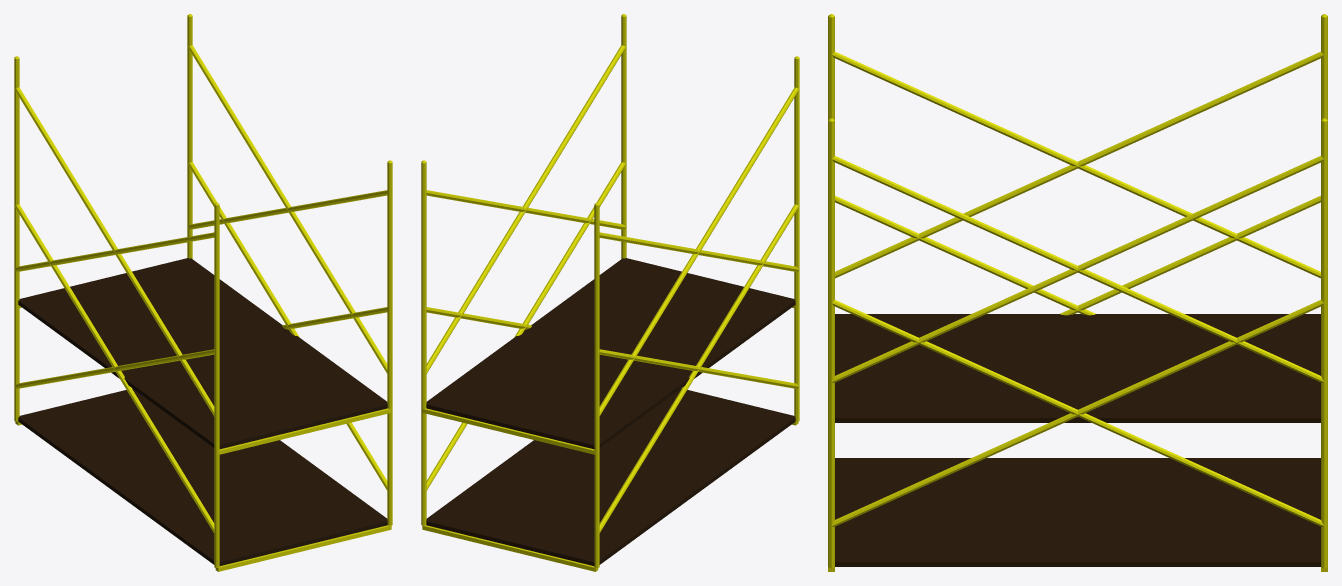
Rendered from Scaffolding.fbx.
3 renders of one model, left to right at view 1: azimuth 30°, elevation 25°; view 2: azimuth 150°, elevation 25°; view 3: azimuth 270°, elevation 25°, orthographic. The views are drawn at different scales.
Parts seen in each view (by area): view 1: ScaffoldingA, ScaffoldingB; view 2: ScaffoldingA, ScaffoldingB; view 3: ScaffoldingA, ScaffoldingB.
Part boxes in pixels (box(x1,y1,x2,y2)): ScaffoldingA: box(14, 14, 392, 567); ScaffoldingB: box(14, 133, 392, 571); ScaffoldingA: box(421, 14, 799, 567); ScaffoldingB: box(421, 133, 799, 571); ScaffoldingA: box(828, 14, 1327, 568); ScaffoldingB: box(828, 195, 1327, 571).
Bounding box in the file's own units: 1.54 × 3.04 × 3.04.
